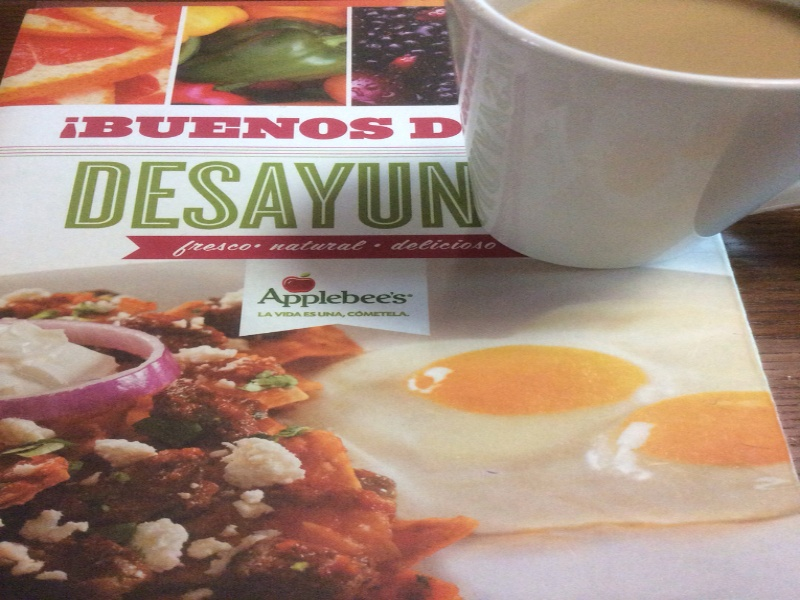cup: (432, 1, 800, 285)
